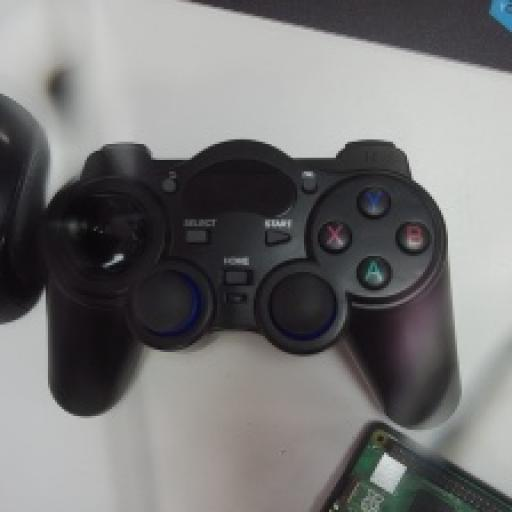game pad: (43, 142, 457, 425)
